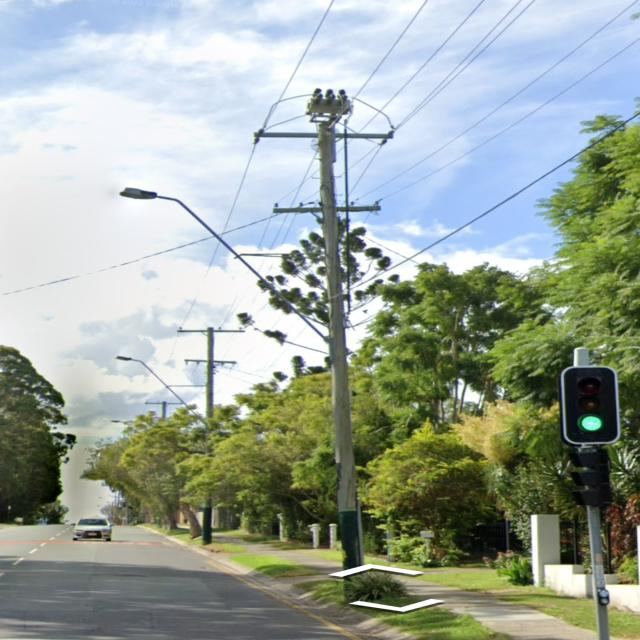HV-switch: (305, 87, 353, 124)
HV-transmission: (250, 130, 394, 146), (177, 326, 246, 334)
crossarm: (254, 132, 392, 140), (274, 205, 381, 214), (178, 329, 246, 333), (184, 359, 238, 364), (144, 401, 182, 405)
steel-pole: (571, 344, 610, 640)
streetlight: (118, 187, 332, 346), (116, 354, 208, 428), (110, 419, 136, 426)
timber-pole: (318, 122, 368, 606), (200, 328, 215, 544), (162, 401, 167, 420)
traffic-light: (562, 365, 622, 444), (566, 448, 616, 508)
